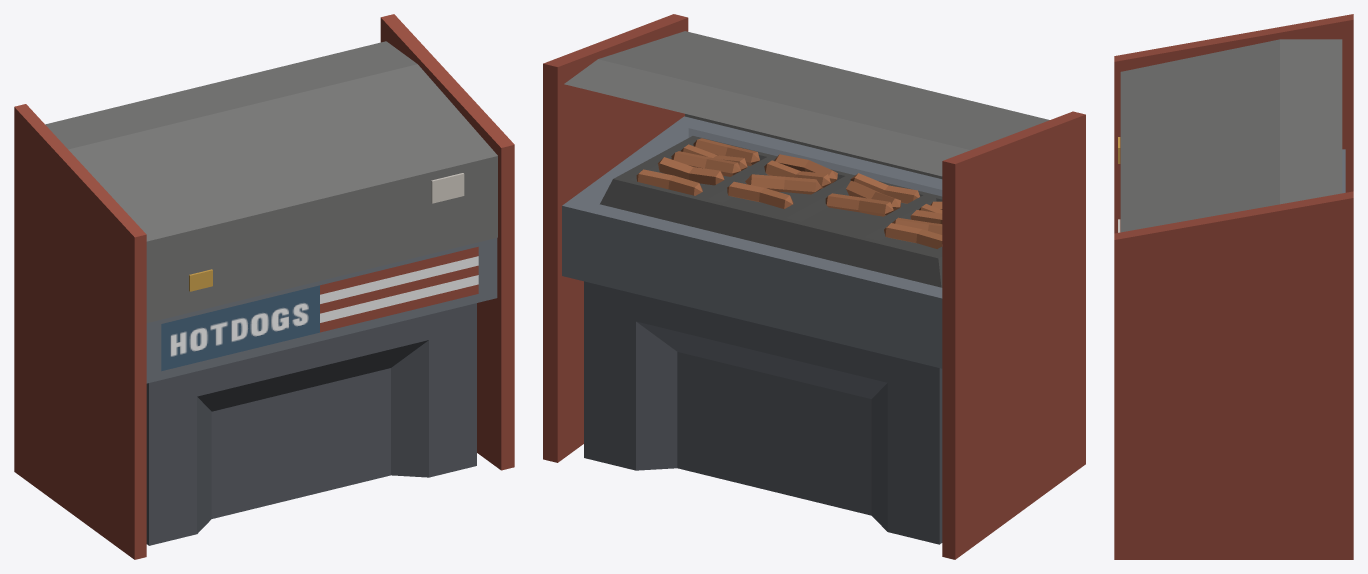
File: FoodStall.obj
The picture shows the model from 3 angles, left to right: view 1: azimuth 30°, elevation 25°; view 2: azimuth 150°, elevation 25°; view 3: azimuth 270°, elevation 25°; orthographic projection. The views are drawn at different scales.
Bounding box in the file's own units: 1.36 × 1.25 × 0.7484.
1 material, 1 textured.
